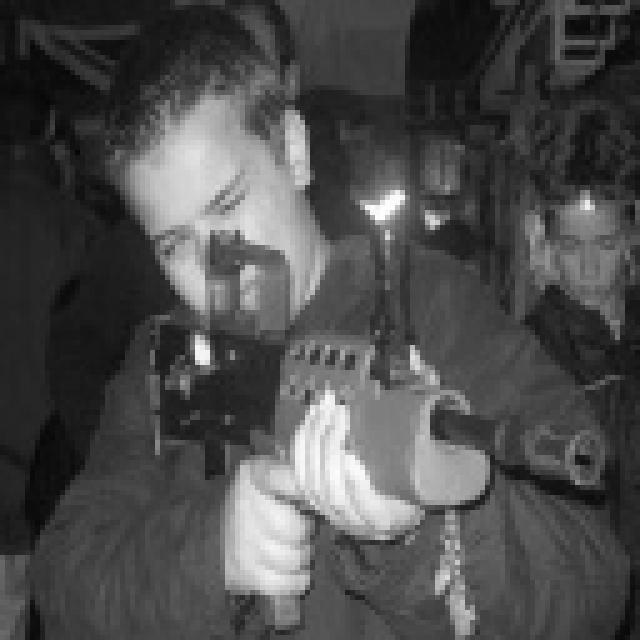Rifle: (95, 120, 640, 640)
